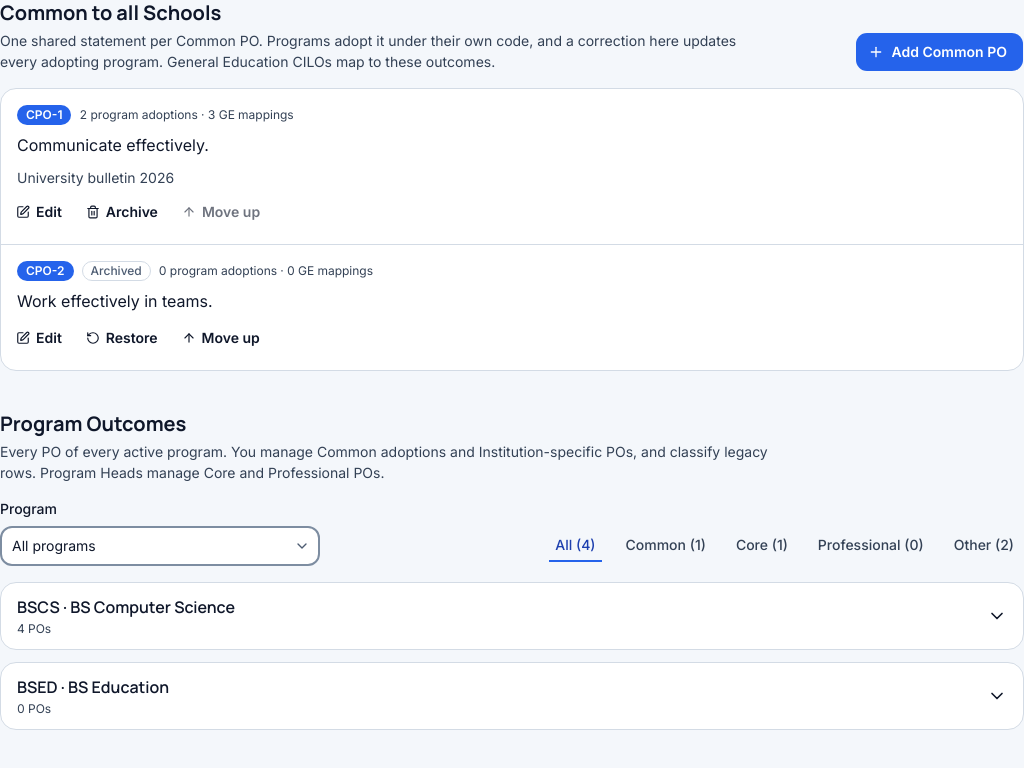
Scenario: CentralOutcomesCatalog › keeps the review open when the commit is refused
The image size is (1024, 768).
Click the button "Archive" at [125, 212], box [79, 196, 171, 228]
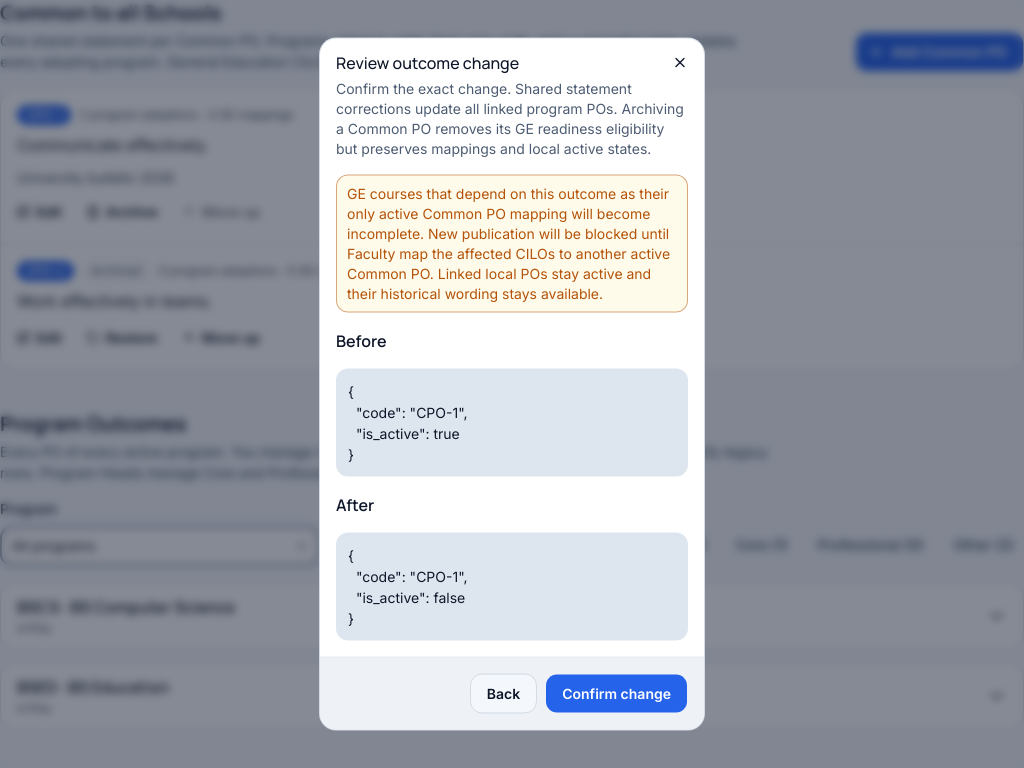
Click the button "Confirm change" at [617, 694], box [545, 674, 688, 714]
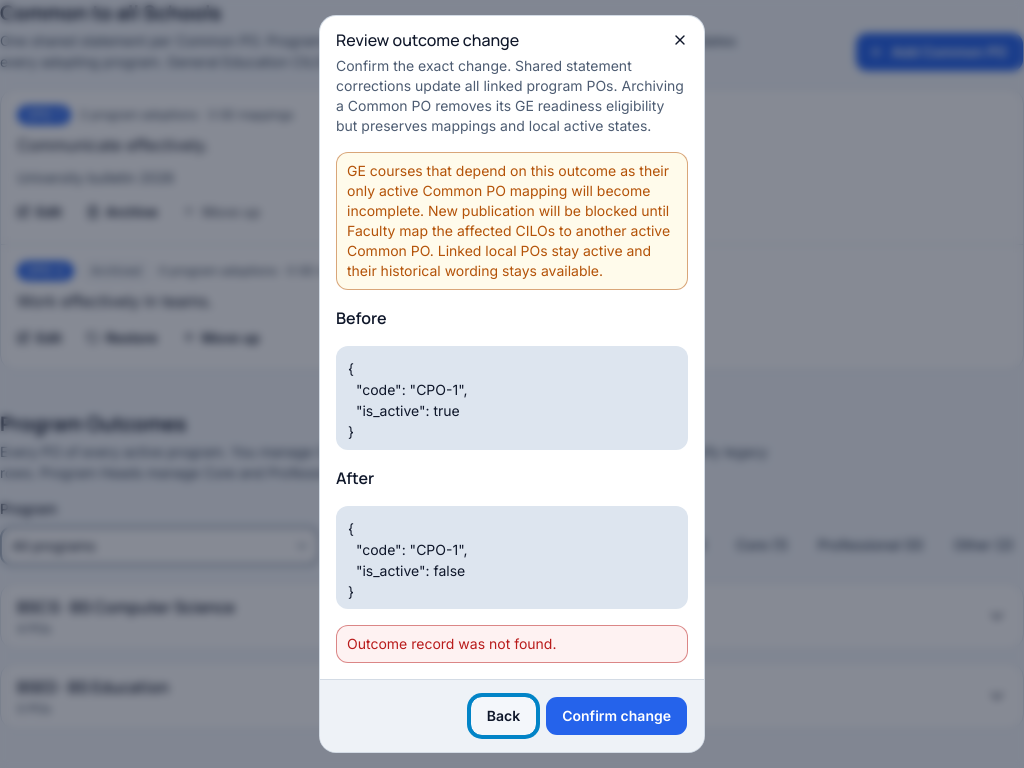
Expected: the button "Confirm change" is shown, [545, 696, 688, 736]
Expected: the text "Outcome record was not found." is shown, [347, 635, 556, 652]
